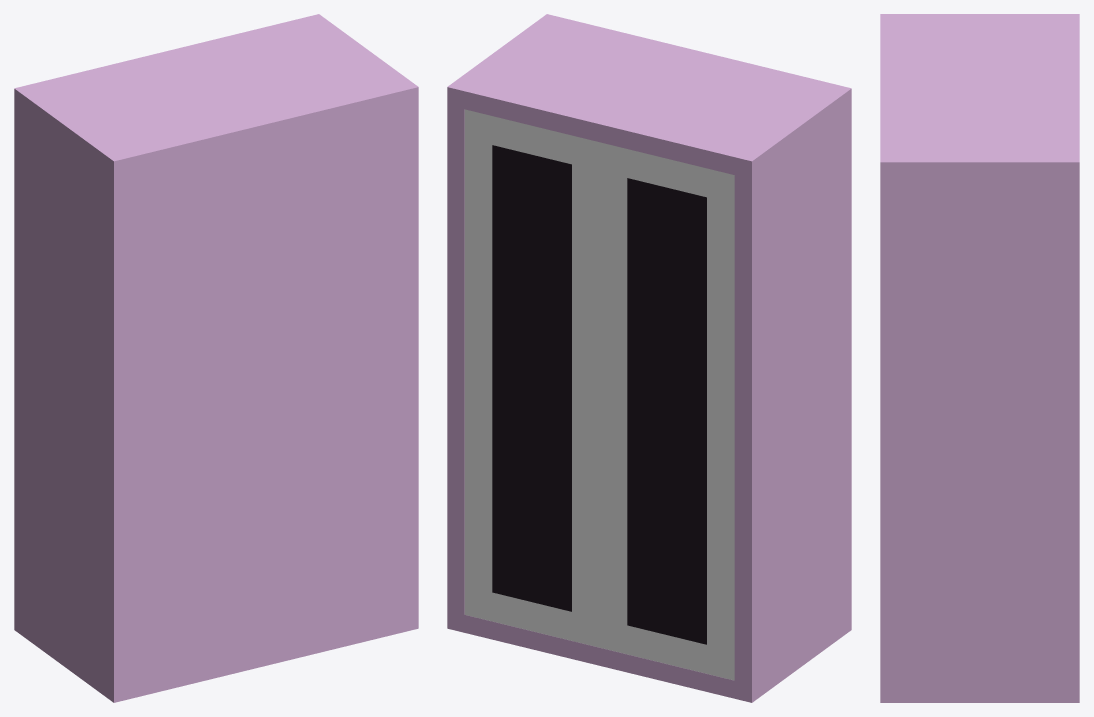
The model's file is Closet.fbx.
3 views of the same model, side by side, from view 1: azimuth 30°, elevation 25°; view 2: azimuth 150°, elevation 25°; view 3: azimuth 270°, elevation 25° (orthographic).
Visible parts, largest first — view 1: Closet; view 2: Closet; view 3: Closet.
Boxes of the visible parts, x1,y1,x2,y2 form: Closet: (14,14,418,702); Closet: (447,14,851,702); Closet: (880,14,1079,702).
Bounding box in the file's own units: 423 × 719 × 240.
